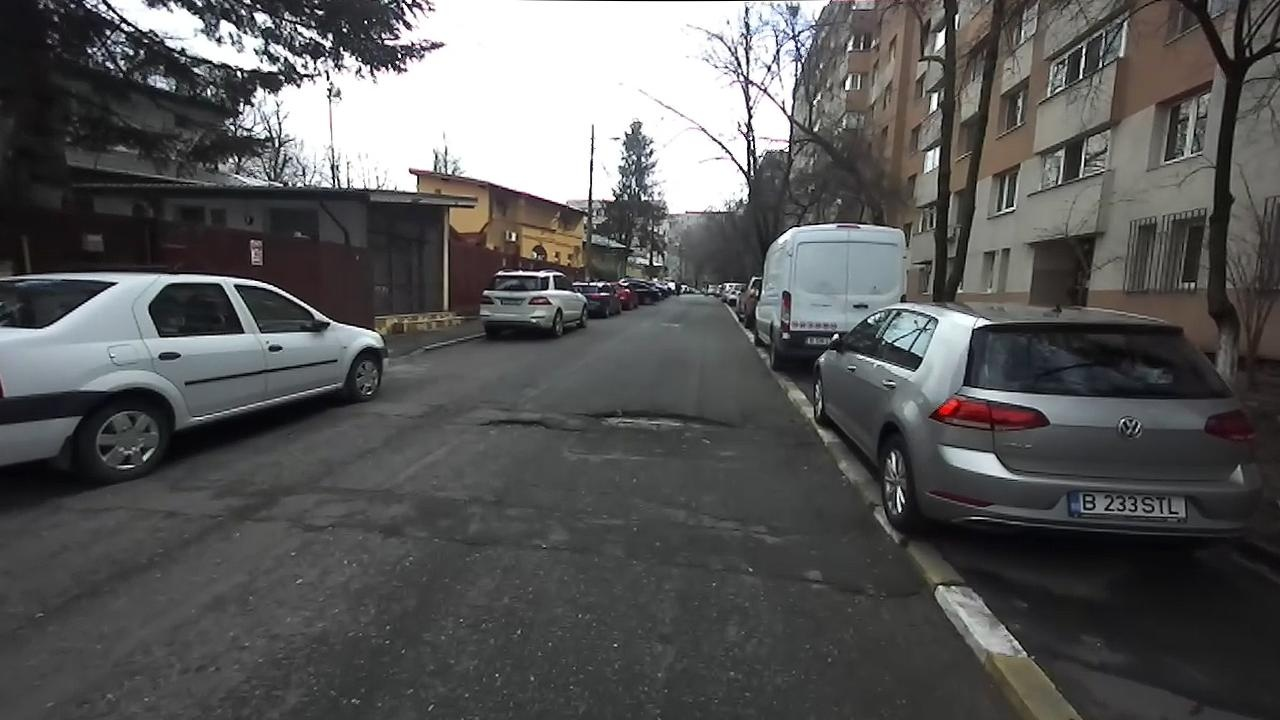pothole: (588, 406, 736, 437), (798, 572, 916, 602), (478, 412, 554, 431)
